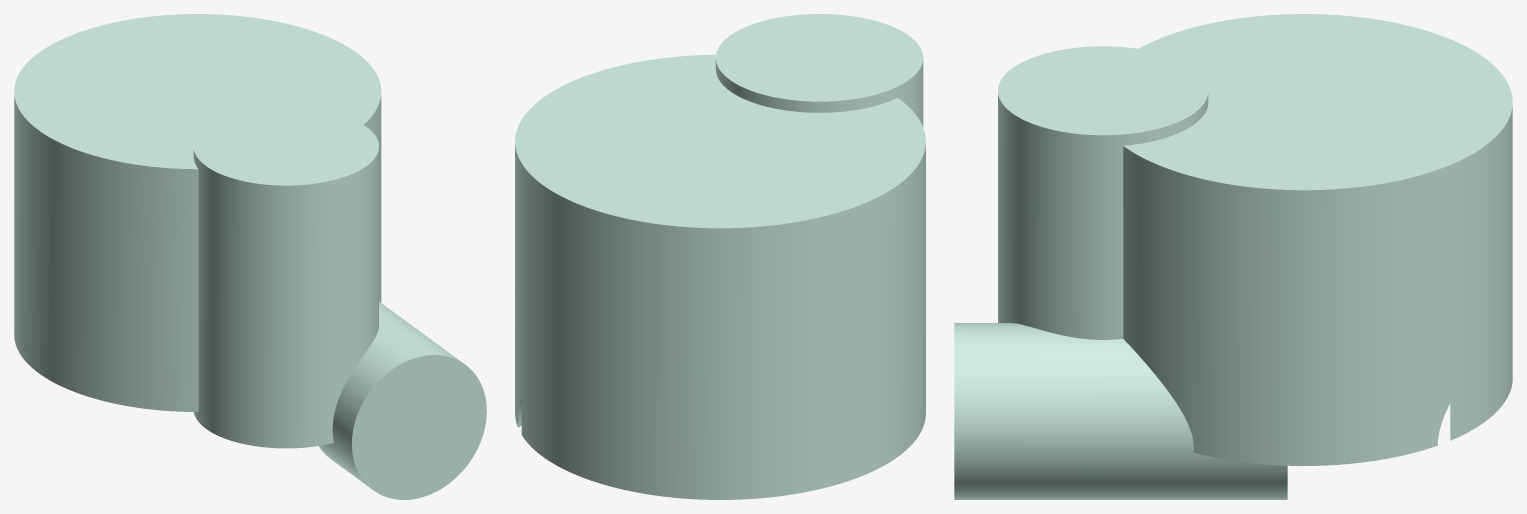
The picture shows the model from 3 angles, left to right: view 1: azimuth 30°, elevation 25°; view 2: azimuth 150°, elevation 25°; view 3: azimuth 270°, elevation 25°; orthographic projection. The views are drawn at different scales.
Parts seen in each view (by area): view 1: Renderer Node; view 2: Renderer Node; view 3: Renderer Node.
Part boxes in pixels (x1=…): Renderer Node: x1=14, y1=14, x2=486, y2=499; Renderer Node: x1=515, y1=14, x2=925, y2=499; Renderer Node: x1=954, y1=14, x2=1512, y2=499.
Size of the model in its own units: 0.7816 by 0.7517 by 1.05.
